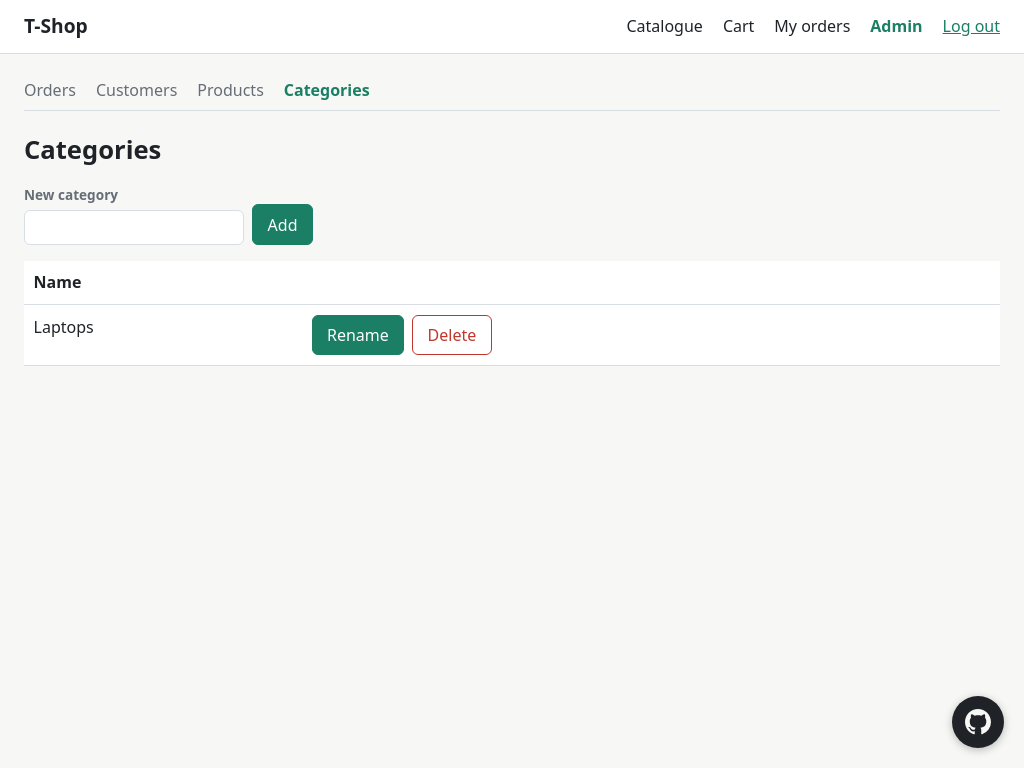
Scenario: admin pages › show why a category could not be deleted
Click the button "Delete" at [452, 335], box [412, 314, 492, 355]
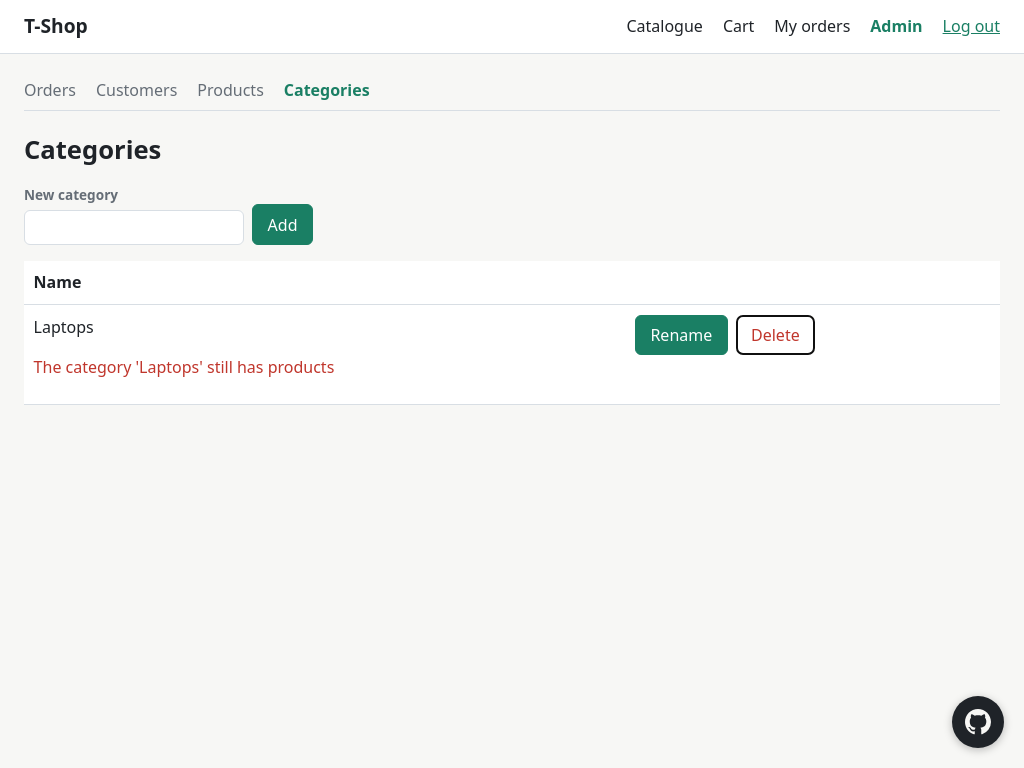
Check: the text "The category 'Laptops' still has products" is shown, box [34, 356, 334, 378]
